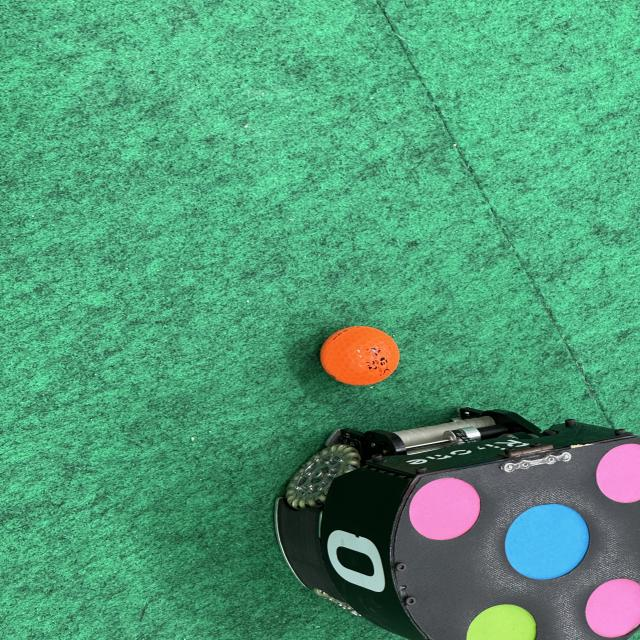ball: (312, 320, 405, 388)
